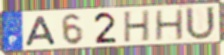2: (92, 11, 118, 45)
6: (61, 13, 86, 47)
A: (24, 14, 59, 47)
H: (154, 8, 185, 42), (122, 9, 151, 44)
U: (184, 5, 218, 42)
